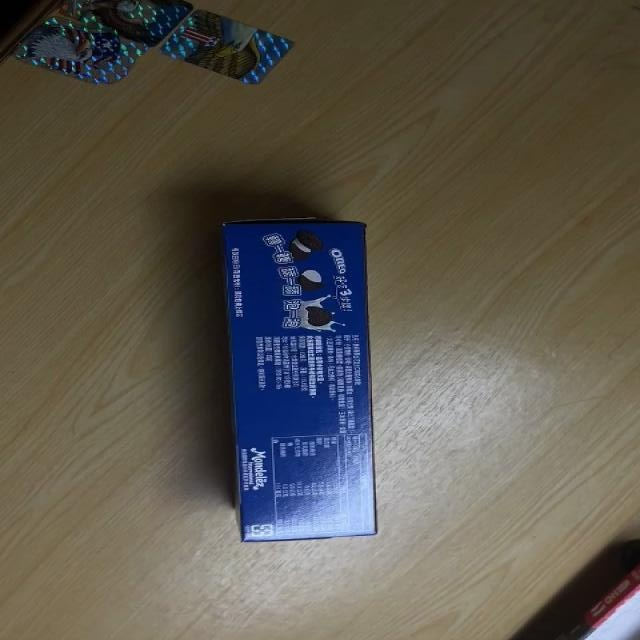Oreo: (226, 216, 378, 544)
